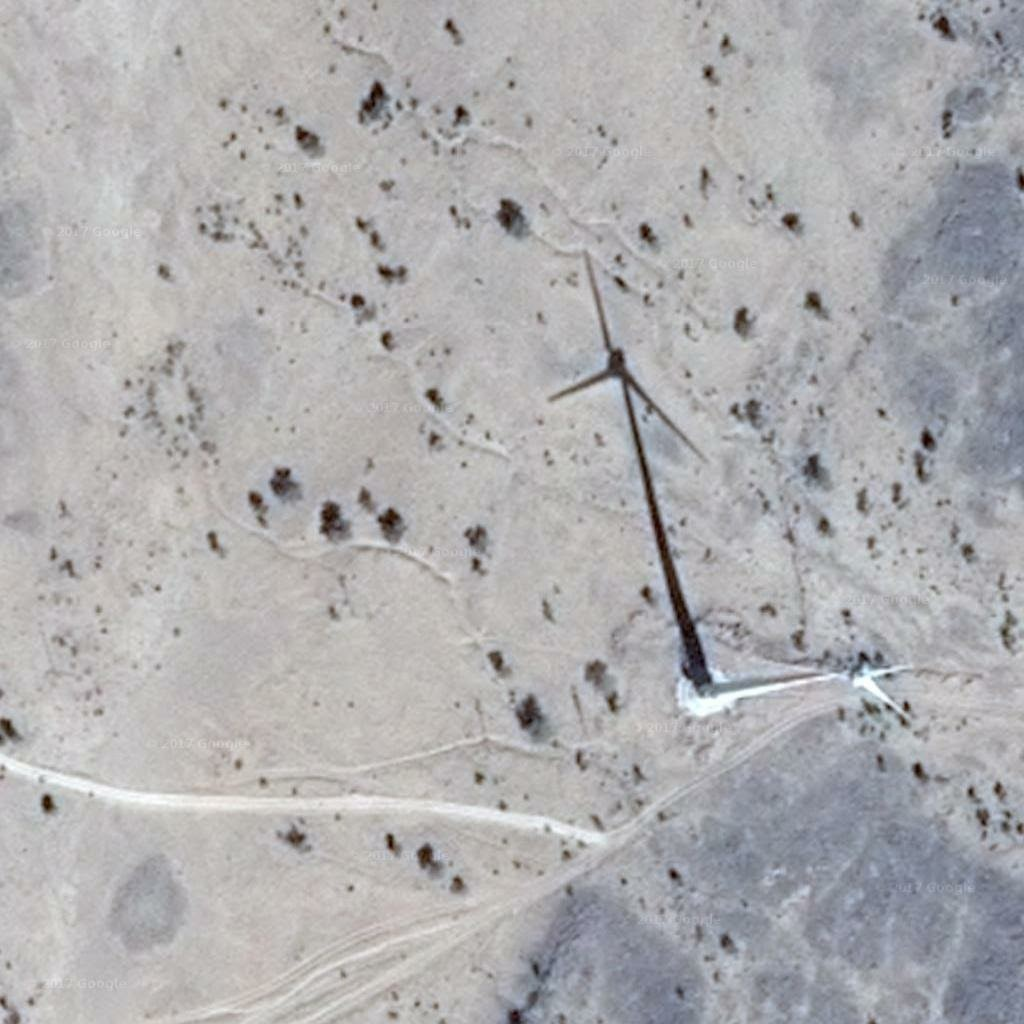Windmill: (550, 255, 733, 682)
